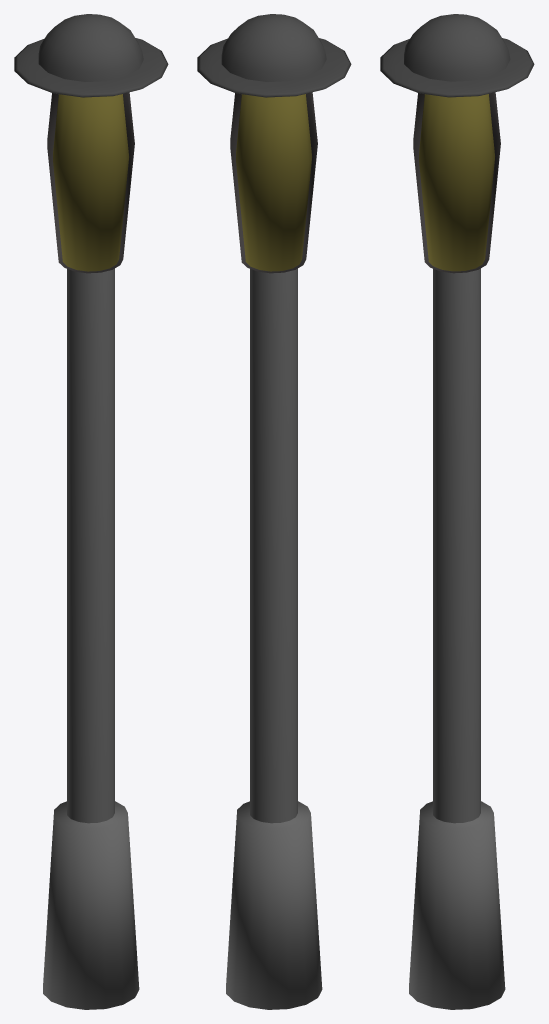
File: lamp.fbx
The picture shows the model from 3 angles, left to right: view 1: azimuth 30°, elevation 25°; view 2: azimuth 150°, elevation 25°; view 3: azimuth 270°, elevation 25°; orthographic projection.
Visible parts, largest first — view 1: Cylinder.006, Cylinder.007, Cylinder.009, Sphere.003, Sphere.004, Cylinder.008; view 2: Cylinder.006, Cylinder.007, Cylinder.009, Sphere.003, Sphere.004, Cylinder.008; view 3: Cylinder.006, Cylinder.007, Cylinder.009, Sphere.003, Sphere.004, Cylinder.008.
Part boxes in pixels (<box>): Cylinder.006: <box>67,268,114,823</box>; Cylinder.007: <box>43,801,139,1009</box>; Cylinder.009: <box>53,94,128,271</box>; Sphere.003: <box>38,14,143,81</box>; Sphere.004: <box>14,38,168,97</box>; Cylinder.008: <box>47,92,134,273</box>; Cylinder.006: <box>250,268,297,823</box>; Cylinder.007: <box>226,801,322,1009</box>; Cylinder.009: <box>236,94,311,271</box>; Sphere.003: <box>221,14,326,81</box>; Sphere.004: <box>197,38,351,97</box>; Cylinder.008: <box>230,92,317,273</box>; Cylinder.006: <box>433,268,480,823</box>; Cylinder.007: <box>409,801,505,1009</box>; Cylinder.009: <box>419,94,494,271</box>; Sphere.003: <box>404,14,510,81</box>; Sphere.004: <box>380,38,534,97</box>; Cylinder.008: <box>413,92,500,273</box>.
Bounding box in the file's own units: 79.56 × 550 × 79.13.
